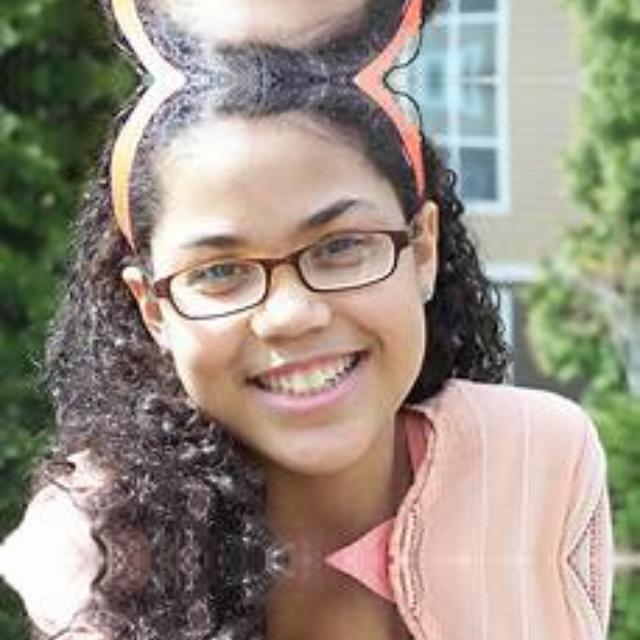person: (21, 78, 592, 560), (21, 559, 592, 640), (21, 0, 592, 79)
